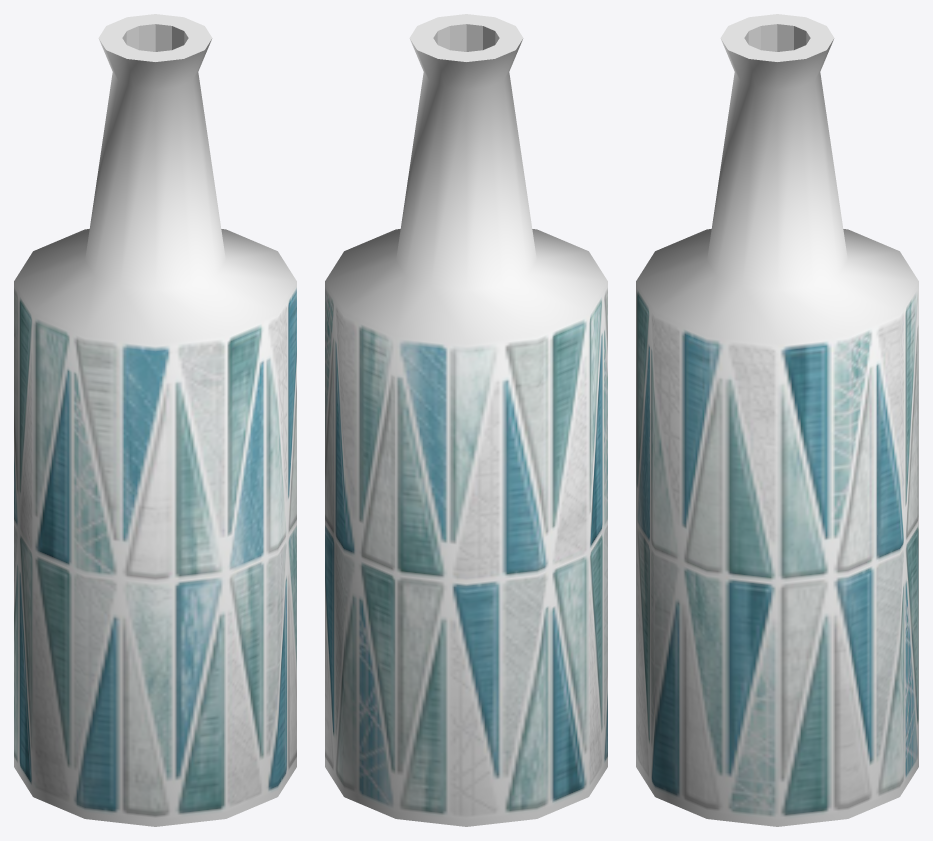
The model's file is vase2.FBX.
The picture shows the model from 3 angles, left to right: view 1: azimuth 30°, elevation 25°; view 2: azimuth 150°, elevation 25°; view 3: azimuth 270°, elevation 25°; orthographic projection.
Visible parts, largest first — view 1: vase2; view 2: vase2; view 3: vase2.
Boxes of the visible parts, box(x1,y1,x2,y2) form: vase2: box(14, 14, 296, 826); vase2: box(325, 14, 607, 826); vase2: box(636, 14, 918, 826).
Bounding box in the file's own units: 4.28 × 4.28 × 12.17.
Materials: 1 (1 with a texture image).
